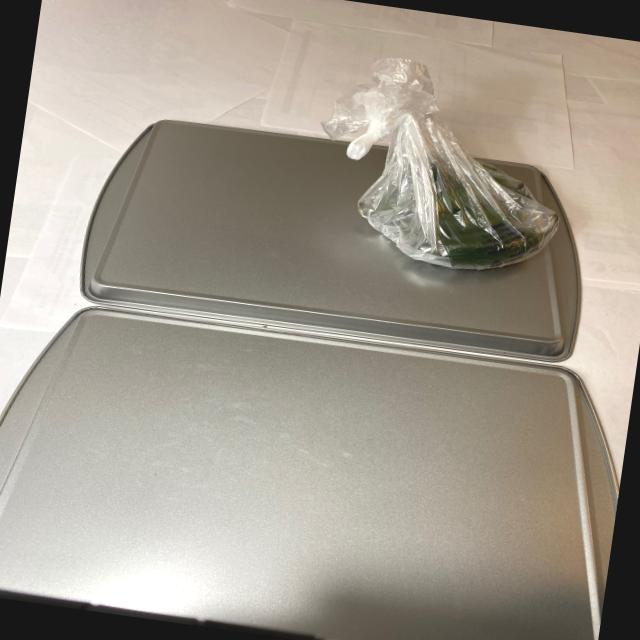chilli: (352, 154, 566, 279)
